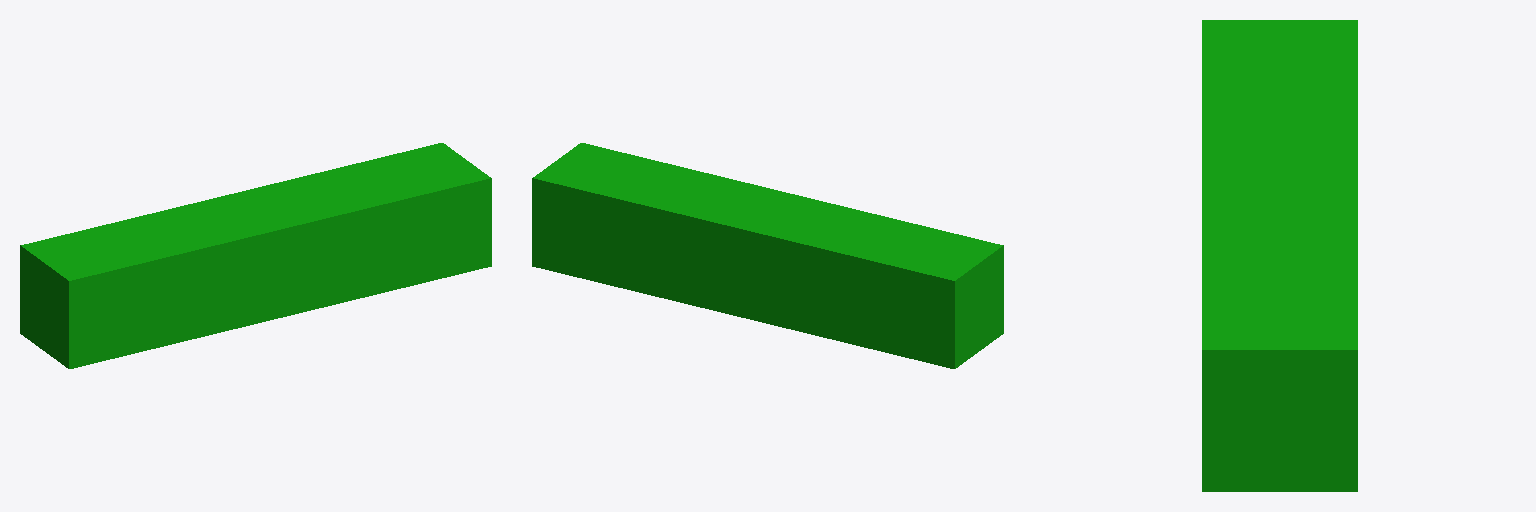
URDF robot description (block_2):
<?xml version="1.0"?>
<robot name="block_2">
  <link name="block_2_base_link">
    <contact>
      <lateral_friction value="1.0"/>
      <spinning_friction value=".001"/>
    </contact>
    <inertial>
      <origin rpy="0 0 0" xyz="0 0 0"/>
      <mass value="20"/>
      <inertia ixx="1" ixy="0" ixz="0" iyy="1" iyz="0" izz="1"/>
    </inertial>
    <visual>
      <origin rpy="0 0 0" xyz="0.0 0.0 0.0"/>
      <geometry>
        <box size="0.20 0.04 0.04"/>
      </geometry>
      <material name="blockmat">
        <color rgba="0.1 0.7 0.1 1"/>
      </material>
    </visual>
    <collision>
      <origin rpy="0 0 0" xyz="0.0 0.0 0.0"/>
      <geometry>
        <box size="0.20 0.04 0.04"/>
      </geometry>
    </collision>
  </link>
</robot>

--- What the picture shows (computed from the rendered views, not written in the file) ---
The picture shows the robot from 3 angles, left to right: view 1: azimuth 30°, elevation 25°; view 2: azimuth 150°, elevation 25°; view 3: azimuth 270°, elevation 25°; orthographic projection.
Robot: block_2 — 1 links, 0 joints (none); root link block_2_base_link; default pose: every joint at zero.
Visible links, largest first — view 1: block_2_base_link; view 2: block_2_base_link; view 3: block_2_base_link.
Link boxes in pixels (x1=…): block_2_base_link: x1=20, y1=143, x2=491, y2=368; block_2_base_link: x1=532, y1=143, x2=1003, y2=368; block_2_base_link: x1=1202, y1=20, x2=1357, y2=491.
Bounding box of the posed robot: 0.2 × 0.04 × 0.04 m (x, y, z).
Geometry: primitives only (box / cylinder / sphere), no mesh files.